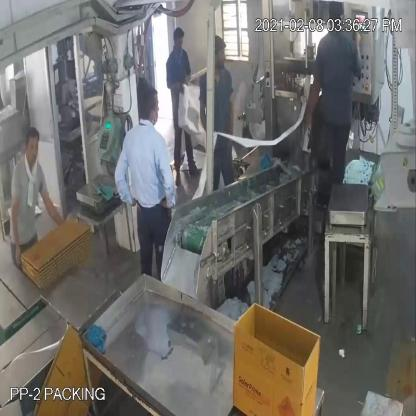no_glove: (4, 179, 26, 269), (39, 178, 70, 232), (110, 150, 134, 218), (157, 150, 175, 216), (306, 72, 326, 124), (225, 90, 232, 141)
